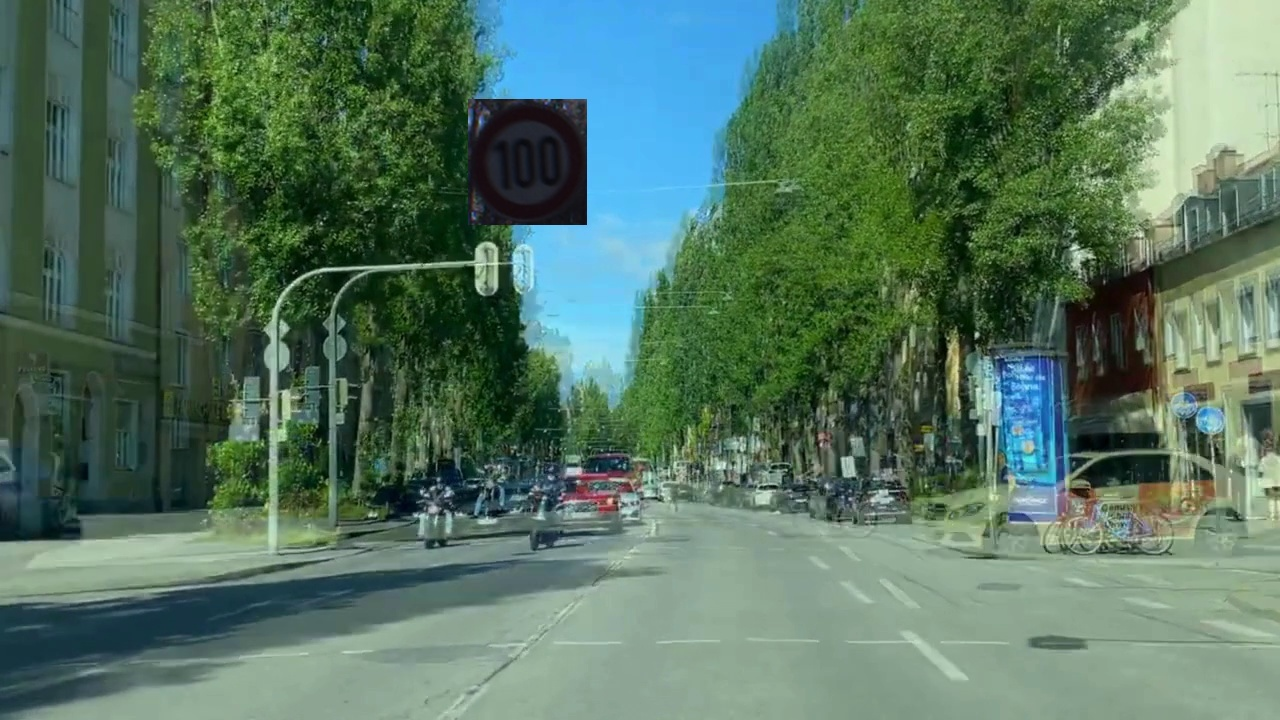Speed 100: (468, 99, 587, 225)
